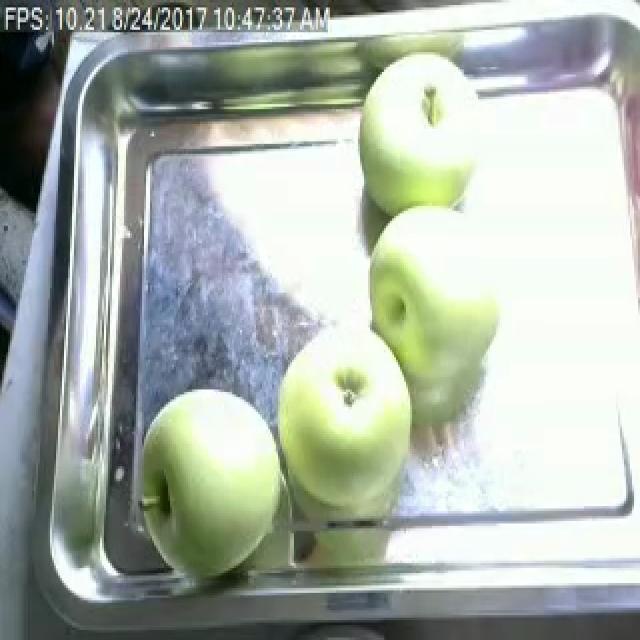50-_ripeness: (352, 191, 536, 389), (278, 316, 449, 517), (130, 378, 302, 573), (333, 60, 518, 220)
